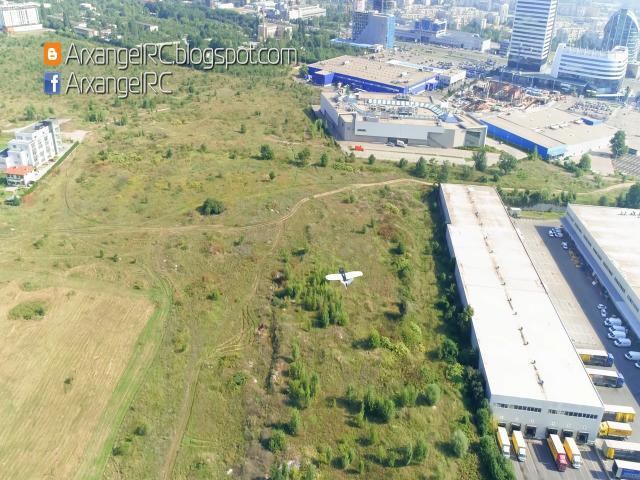plane: (326, 267, 364, 286)
